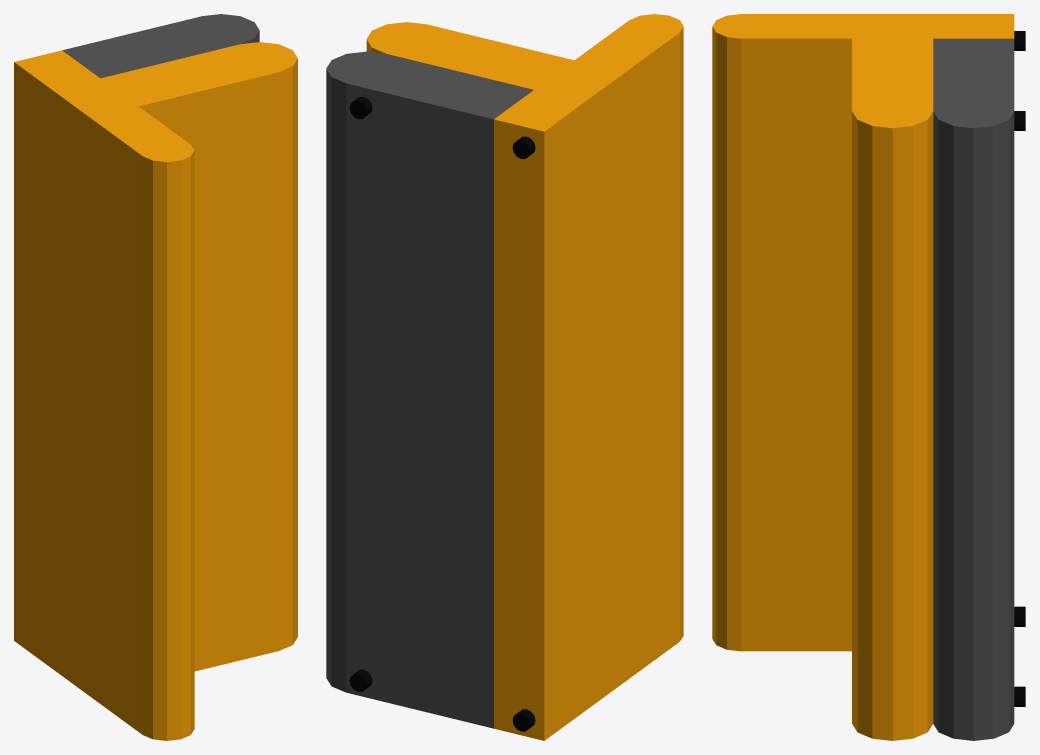
Rendered from nil_link_mesh.dae.
3 renders of one model, left to right at view 1: azimuth 30°, elevation 25°; view 2: azimuth 150°, elevation 25°; view 3: azimuth 270°, elevation 25°, orthographic. The views are drawn at different scales.
Visible parts, largest first — view 1: nil_link (×6); view 2: nil_link (×6); view 3: nil_link (×6).
Boxes of the visible parts, <box> form: nil_link (×6): <box>14,14,297,740</box>; nil_link (×6): <box>326,14,683,740</box>; nil_link (×6): <box>712,14,1014,740</box>.
Bounding box in the file's own units: 0.6 × 1.5 × 0.695.
